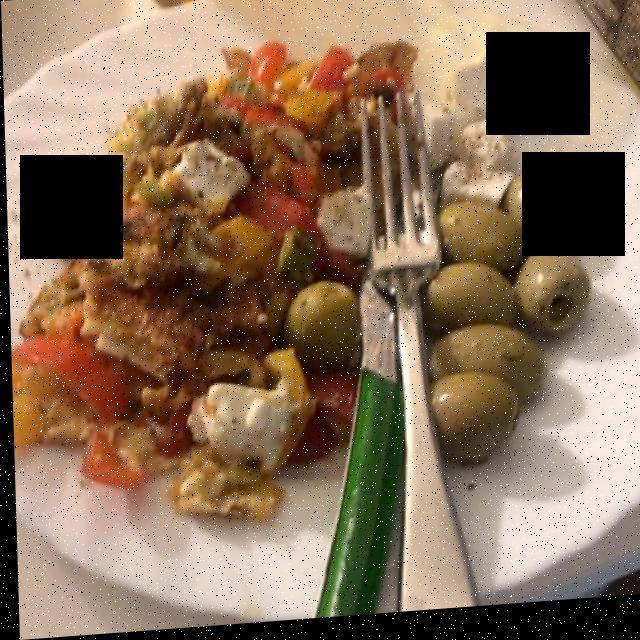bell-pepper: (11, 36, 350, 498)
cheese: (163, 53, 512, 484)
eggs: (24, 57, 409, 523)
green-olives: (425, 179, 584, 466)
